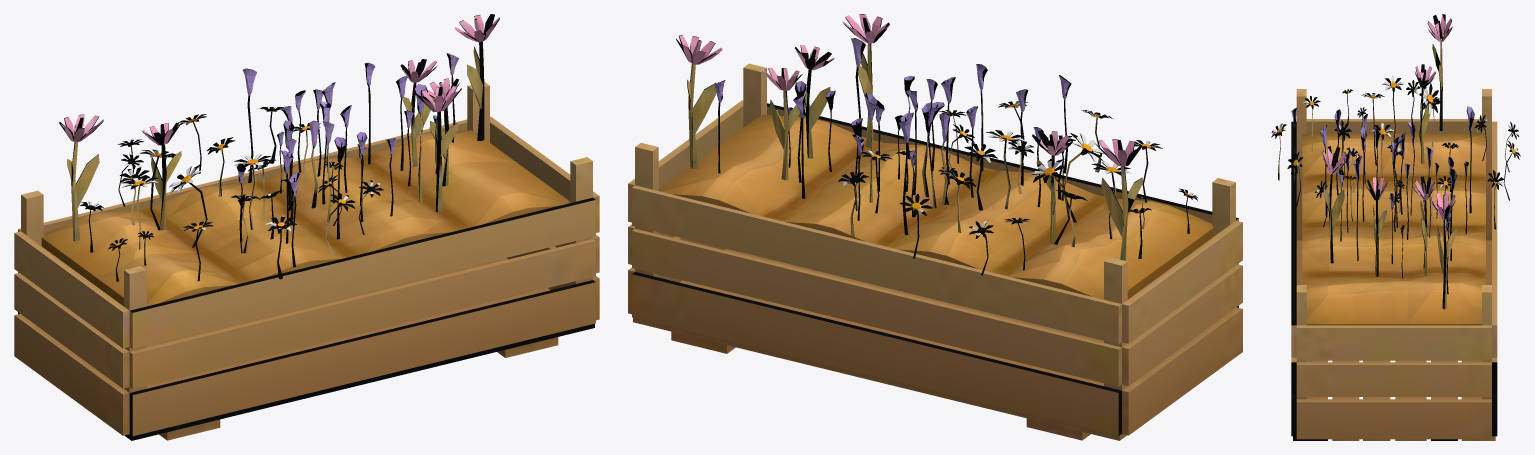
Rendered from flowerbed_crate.glb.
The picture shows the model from 3 angles, left to right: view 1: azimuth 30°, elevation 25°; view 2: azimuth 150°, elevation 25°; view 3: azimuth 270°, elevation 25°; orthographic projection. The views are drawn at different scales.
Visible parts, largest first — view 1: flowerbed_crate; view 2: flowerbed_crate; view 3: flowerbed_crate.
Boxes of the visible parts, bbox=[...] form: flowerbed_crate: bbox=[14, 14, 599, 440]; flowerbed_crate: bbox=[628, 14, 1242, 440]; flowerbed_crate: bbox=[1271, 14, 1520, 440].
Bounding box in the file's own units: 1.21 × 0.6423 × 0.61.
1 material, 1 textured.
